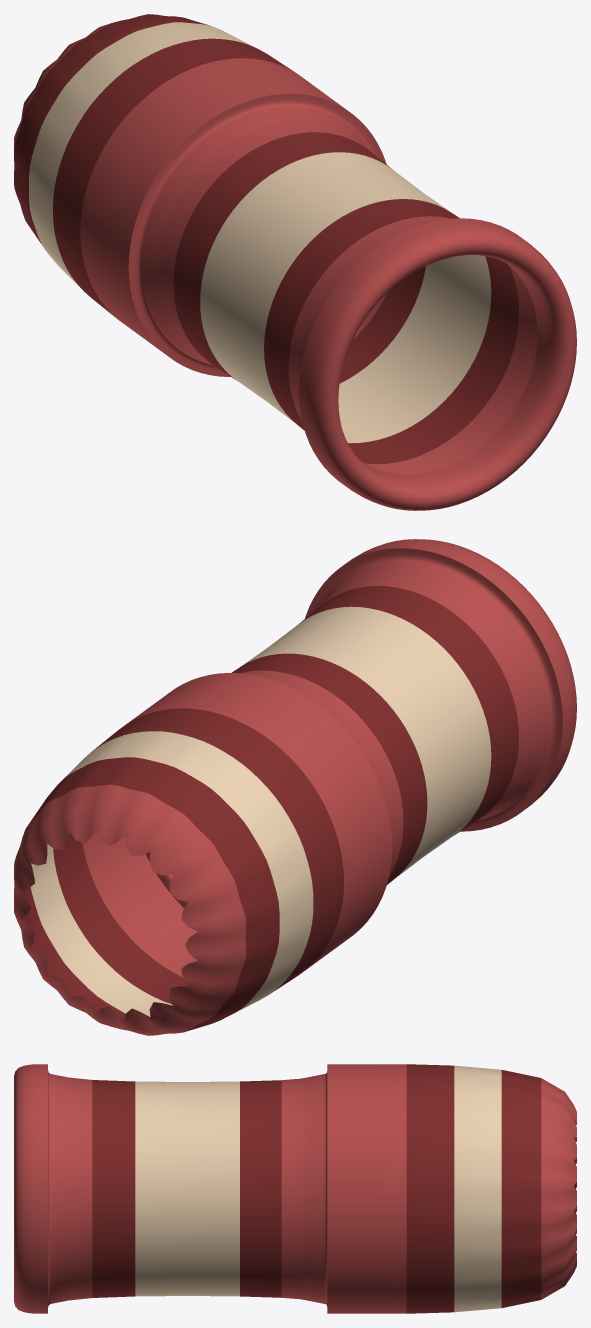
The model's file is Booster.fbx.
3 views of the same model, one above another, from view 1: azimuth 30°, elevation 25°; view 2: azimuth 150°, elevation 25°; view 3: azimuth 270°, elevation 25° (orthographic). The views are drawn at different scales.
Visible parts, largest first — view 1: Booster; view 2: Booster; view 3: Booster.
Part boxes in pixels (x1,y1,x2,y2): Booster: [14, 14, 576, 510]; Booster: [14, 539, 576, 1035]; Booster: [14, 1064, 576, 1313].
Size of the model in its own units: 1.97 by 1.97 by 4.44.
